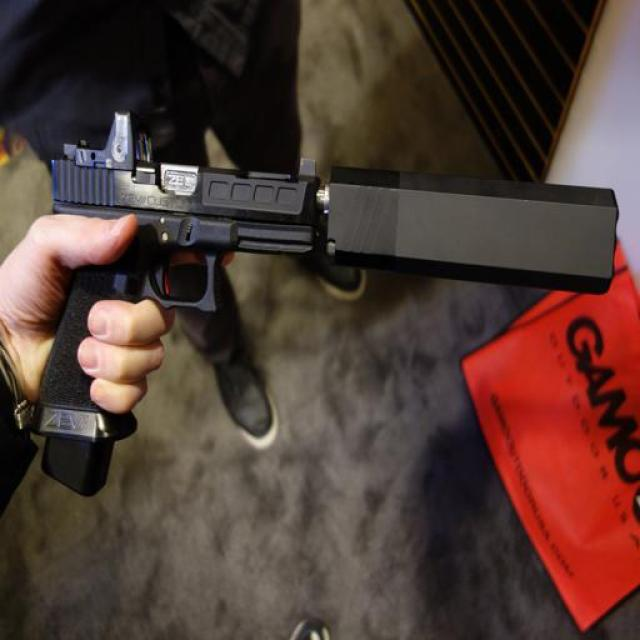pistol: (31, 106, 325, 478)
